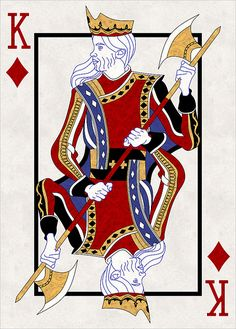king of diamonds: (5, 3, 233, 325)
